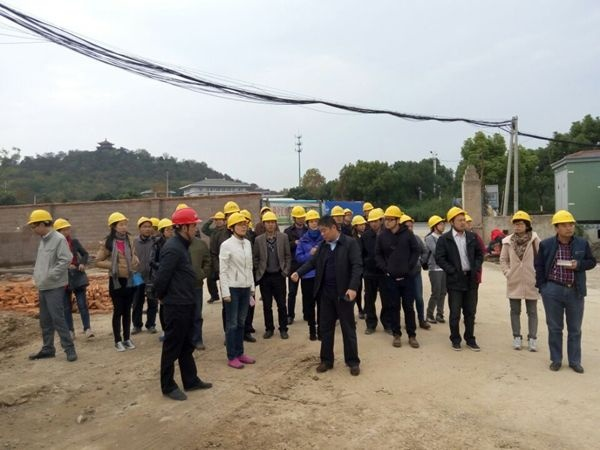none: (317, 214, 337, 241)
red: (170, 206, 200, 239)
yellow: (550, 210, 575, 237), (29, 207, 52, 236), (107, 211, 129, 235), (446, 206, 466, 230), (512, 209, 531, 234), (228, 212, 247, 237), (384, 204, 401, 230), (52, 217, 72, 238), (157, 218, 174, 238), (366, 208, 382, 229), (304, 209, 320, 230), (136, 215, 152, 236), (262, 211, 277, 233), (428, 214, 445, 233), (291, 204, 306, 225), (398, 213, 414, 231), (351, 214, 366, 232), (330, 205, 344, 224), (224, 200, 239, 216), (212, 211, 225, 227), (341, 207, 353, 223), (363, 201, 372, 214)
